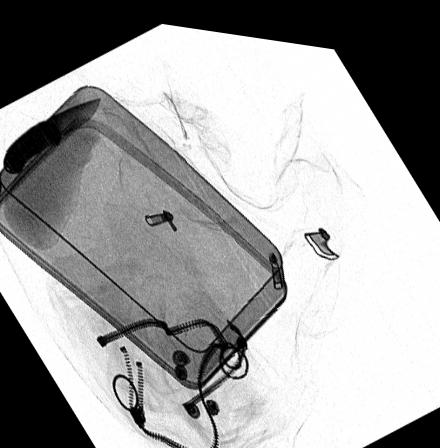Knife: (2, 92, 101, 173)
